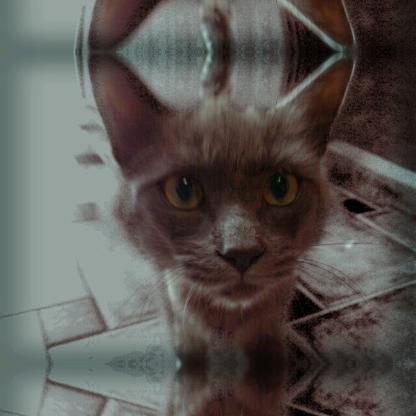Cat: (91, 52, 379, 362)
